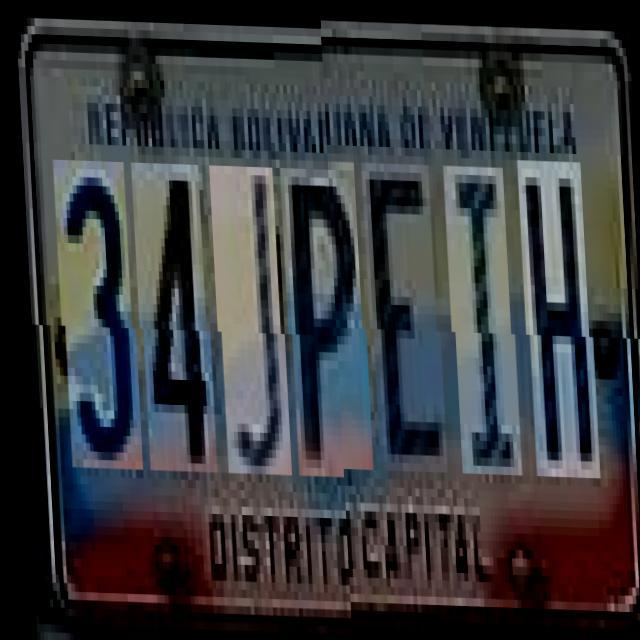3: (54, 159, 138, 469)
4: (132, 162, 212, 470)
E: (363, 168, 443, 478)
H: (520, 165, 596, 482)
I: (446, 170, 518, 480)
J: (211, 164, 287, 473)
P: (282, 165, 368, 476)
